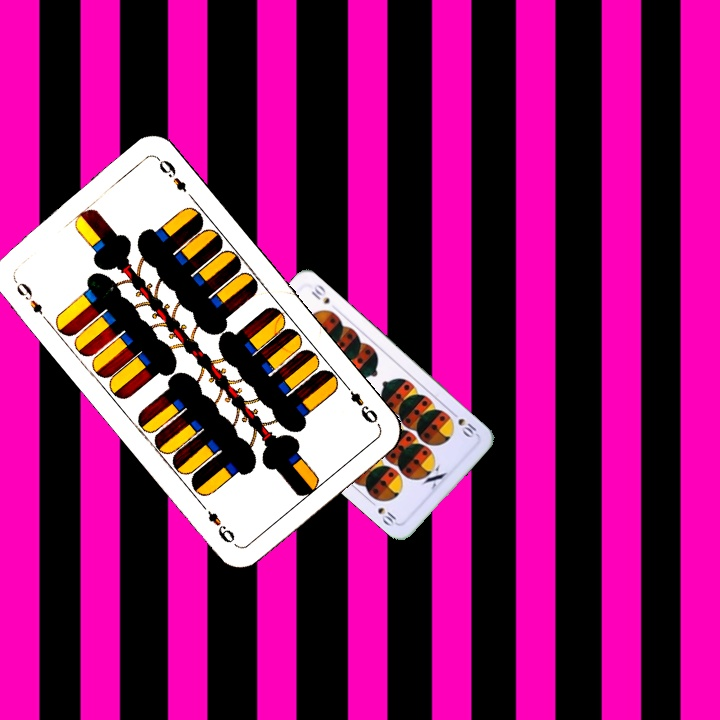E9: (9, 275, 51, 325), (339, 378, 381, 427)
S10: (447, 407, 479, 440)
